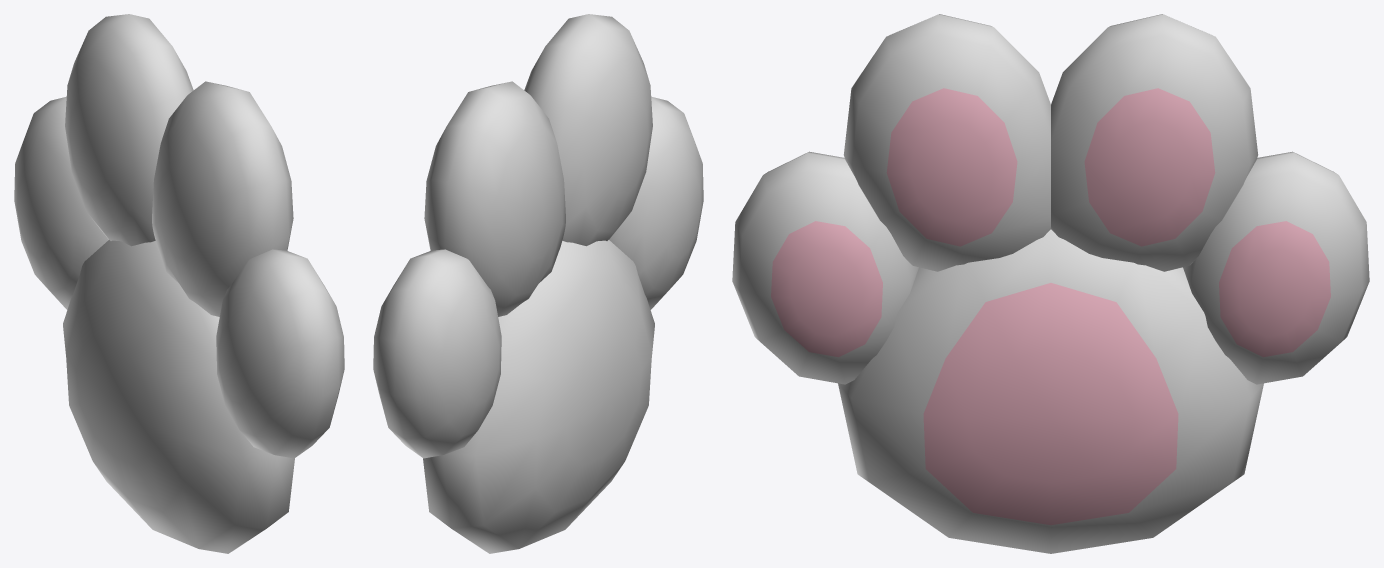
The model's file is paws.glb.
3 views of the same model, side by side, from view 1: azimuth 30°, elevation 25°; view 2: azimuth 150°, elevation 25°; view 3: azimuth 270°, elevation 25° (orthographic). The views are drawn at different scales.
Visible parts, largest first — view 1: Cube; view 2: Cube; view 3: Cube.
Part boxes in pixels (box(x1,y1,x2,y2)): Cube: box(14, 14, 344, 553); Cube: box(373, 14, 703, 553); Cube: box(732, 14, 1369, 553).
Bounding box in the file's own units: 0.0714 × 0.2317 × 0.2491.
